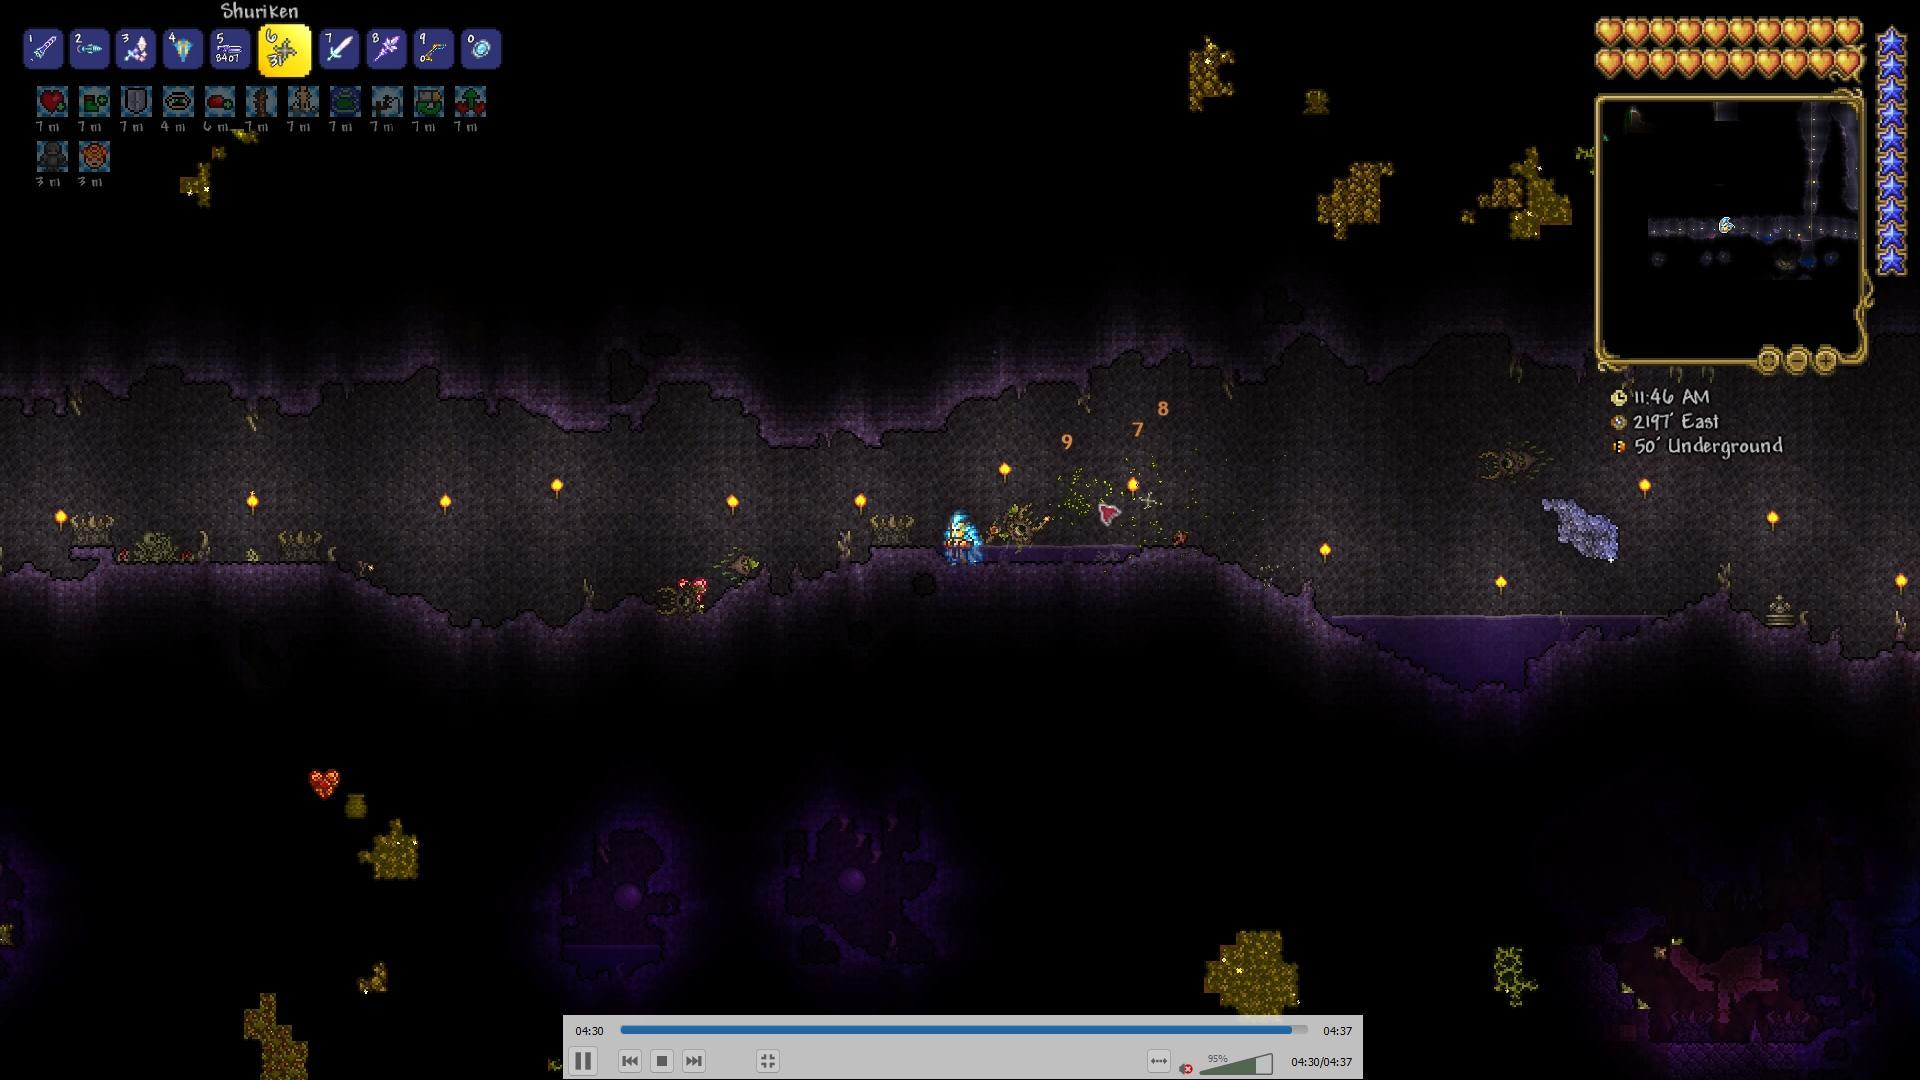crimera: (1468, 435, 1555, 483)
